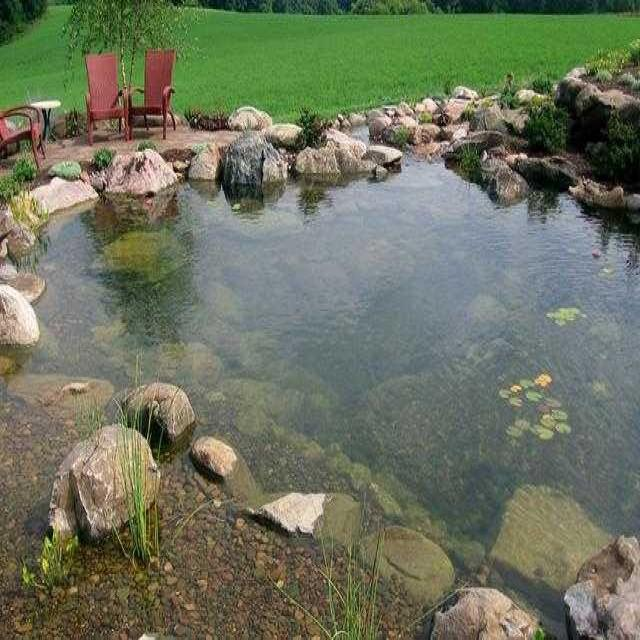Ponds: (1, 85, 640, 640)
